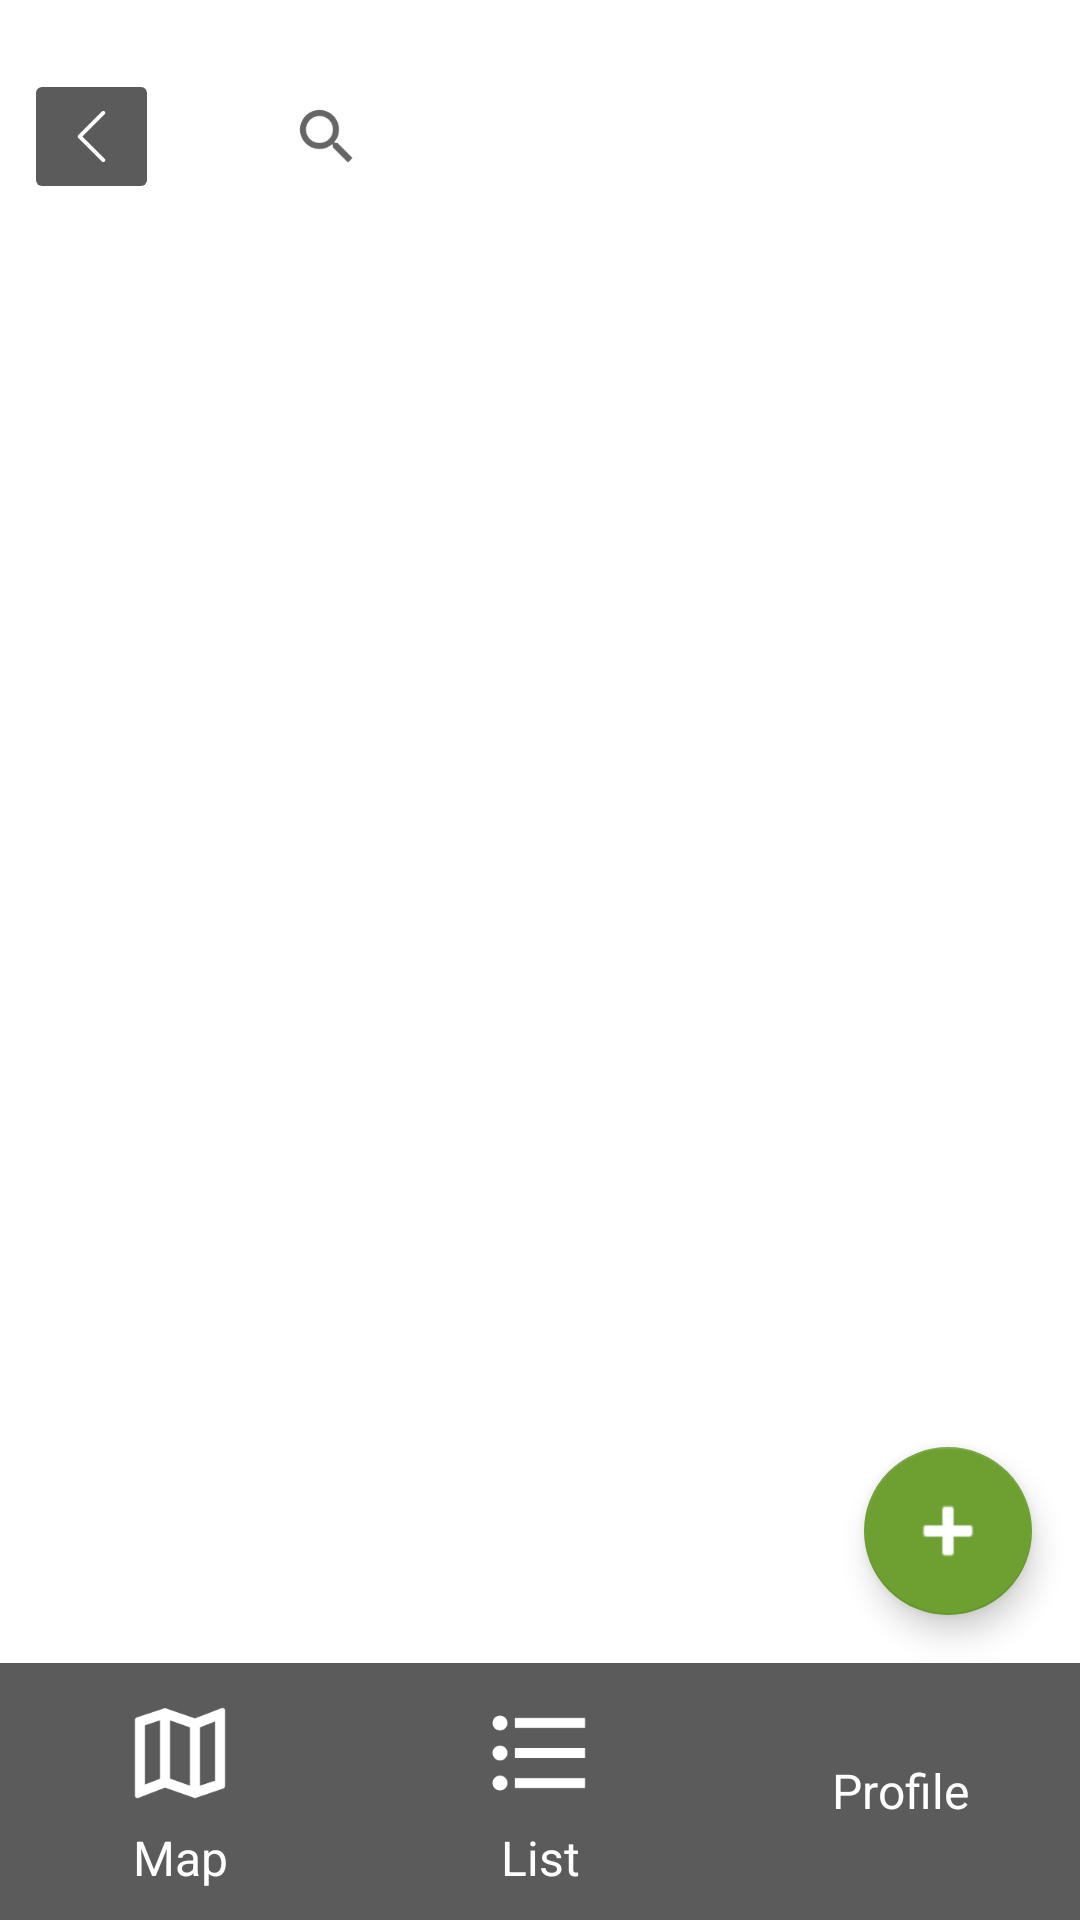

Named icons in this screenshot (1080 × 1920) and their centers, [x,y]:
add: [948,1531]
